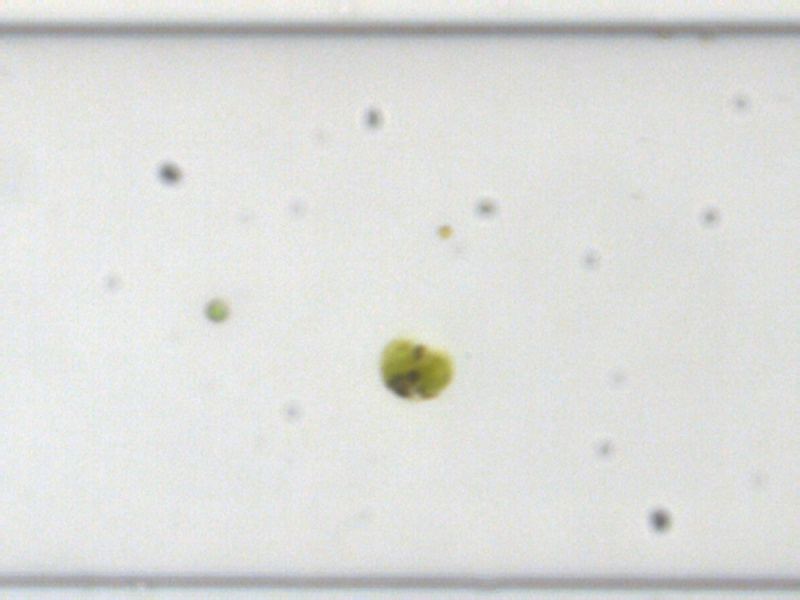Chlorella: (203, 297, 230, 322), (436, 222, 455, 239)
Haematococcus: (375, 333, 455, 404)
